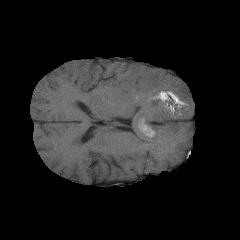glioma: (111, 66, 192, 144)
